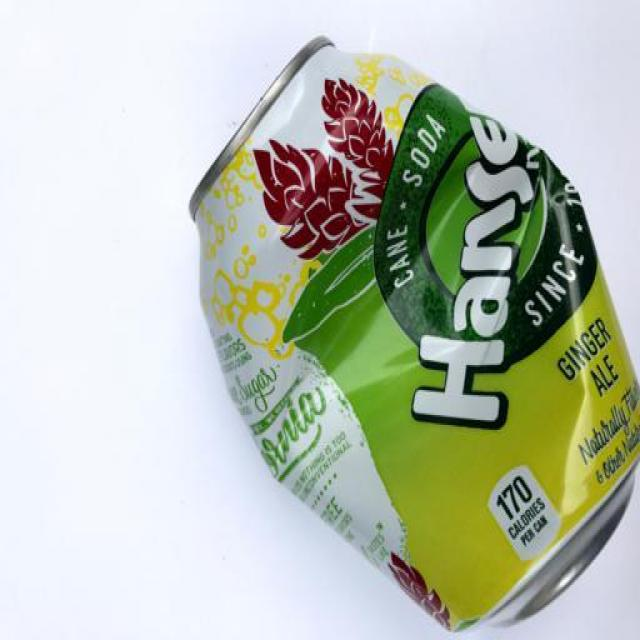metel: (177, 66, 635, 596)
